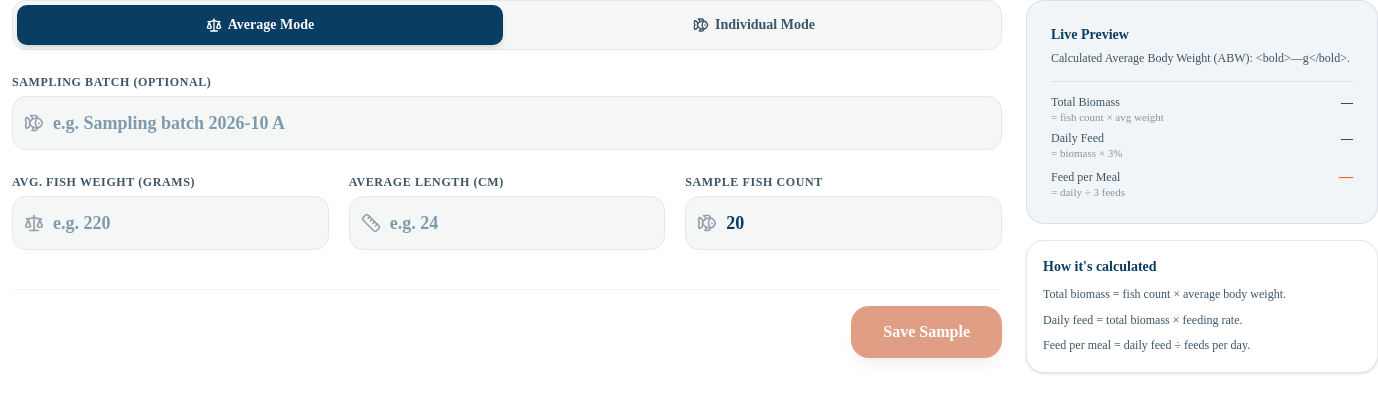
biomass result status (#751) › keeps the green success headline when the schedule was updated
Type "220" into the number field labelled "Avg. Fish Weight (grams)" at (170, 223), box left=12, top=196, right=329, bottom=250
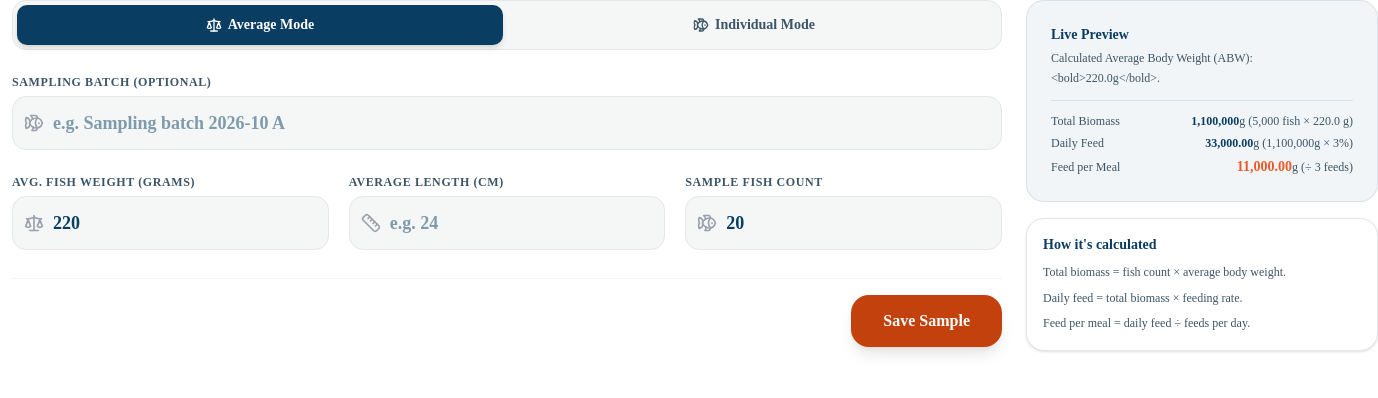
Type "24" into the number field labelled "Average Length (cm)" at (507, 223), box left=349, top=196, right=665, bottom=250
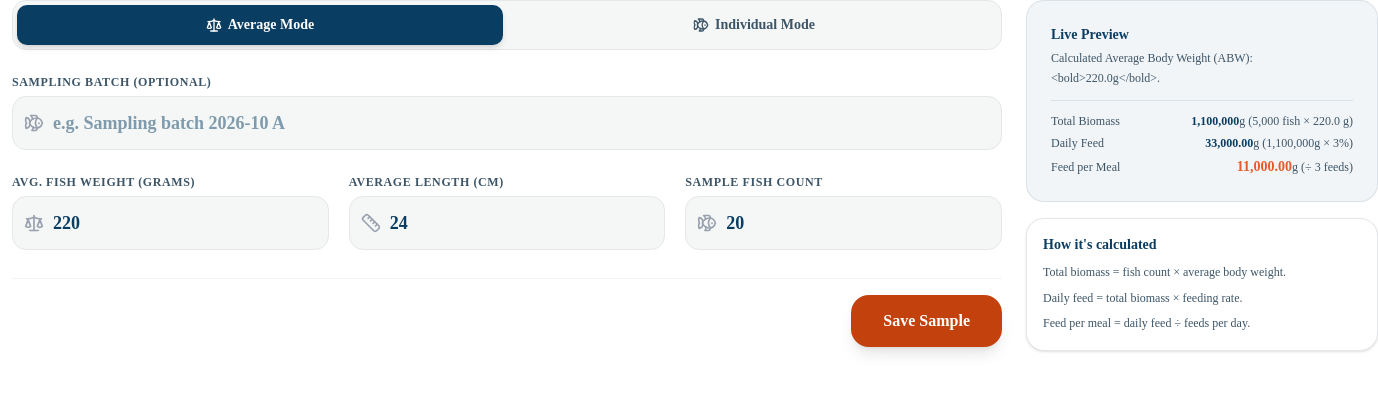
Click the button "Save Sample" at (927, 321), box left=851, top=295, right=1002, bottom=347
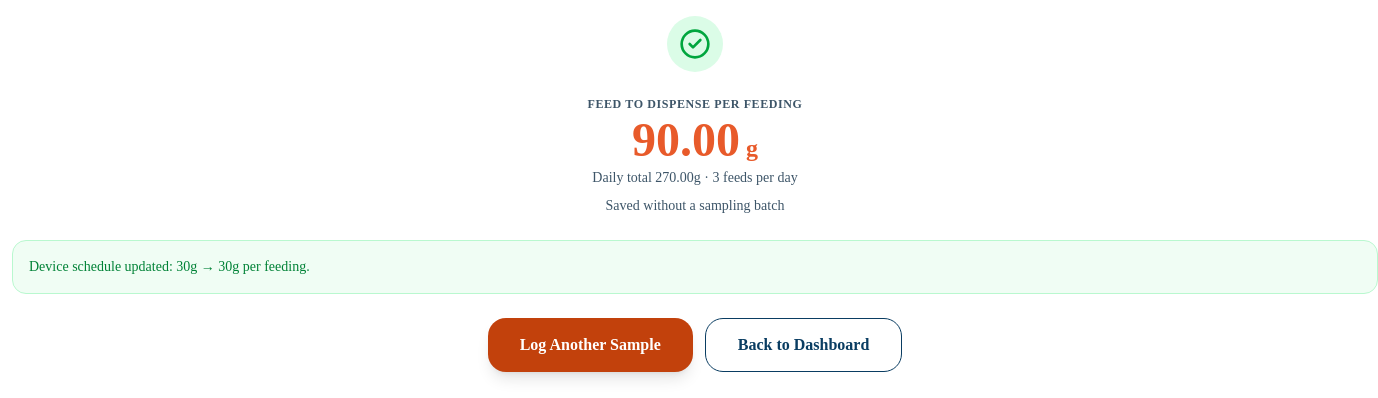
Expected: the text "Feed to dispense per feeding" is shown, left=588, top=97, right=803, bottom=111
